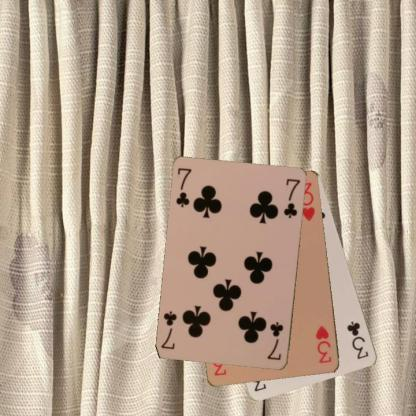3c: (344, 318, 370, 361)
3h: (313, 323, 333, 365)
7c: (173, 166, 194, 209), (264, 320, 284, 362)
